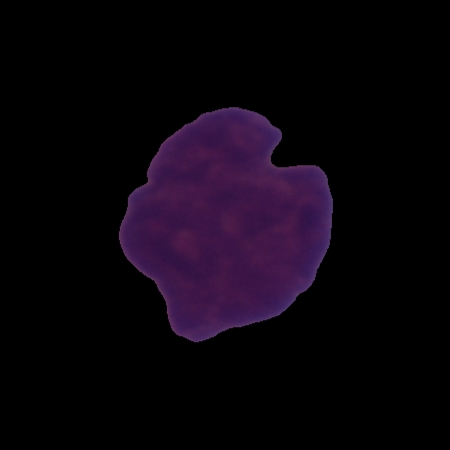ALL: (115, 101, 337, 347)
